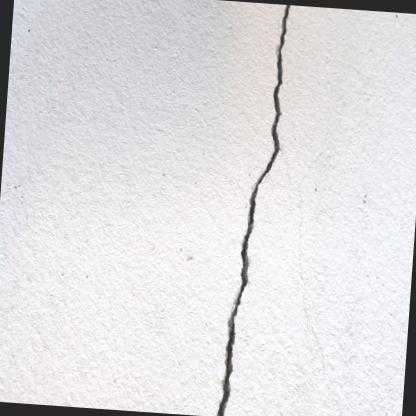crack: (217, 5, 291, 416)
